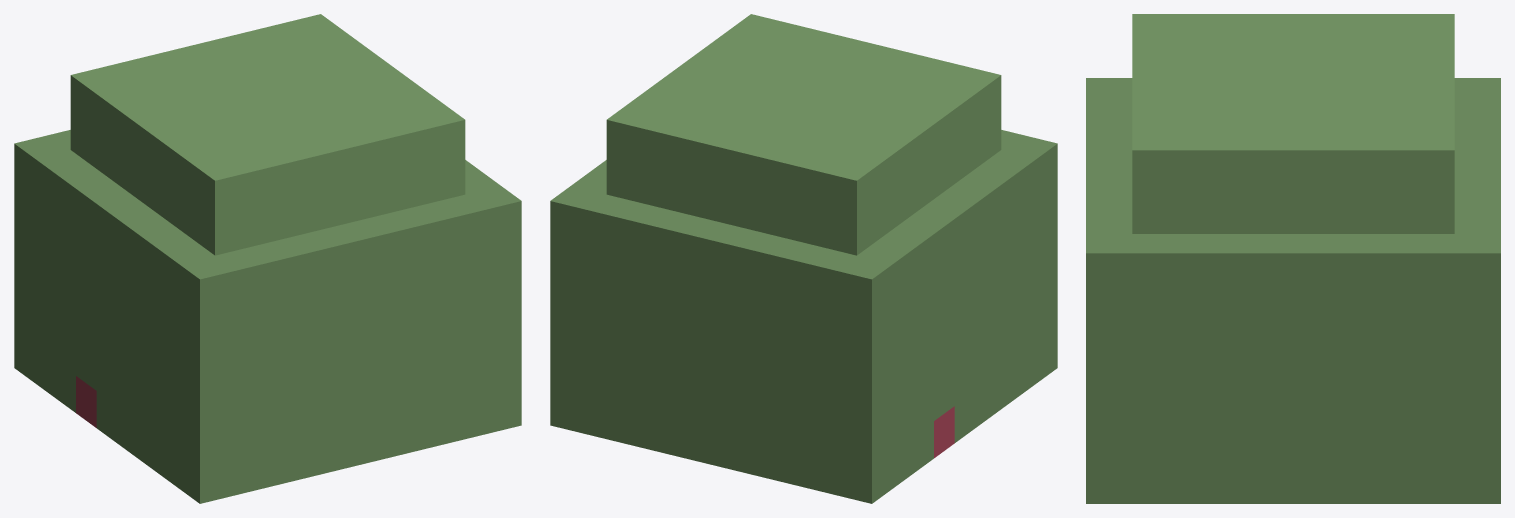
The model's file is arandano_rojo_02.glb.
3 renders of one model, left to right at view 1: azimuth 30°, elevation 25°; view 2: azimuth 150°, elevation 25°; view 3: azimuth 270°, elevation 25°, orthographic. The views are drawn at different scales.
Visible parts, largest first — view 1: arandano_rojo_02; view 2: arandano_rojo_02; view 3: arandano_rojo_02.
Boxes of the visible parts, bbox=[...] form: arandano_rojo_02: bbox=[14, 14, 521, 503]; arandano_rojo_02: bbox=[550, 14, 1057, 503]; arandano_rojo_02: bbox=[1086, 14, 1500, 503].
Bounding box in the file's own units: 0.9 × 0.8 × 0.9.
